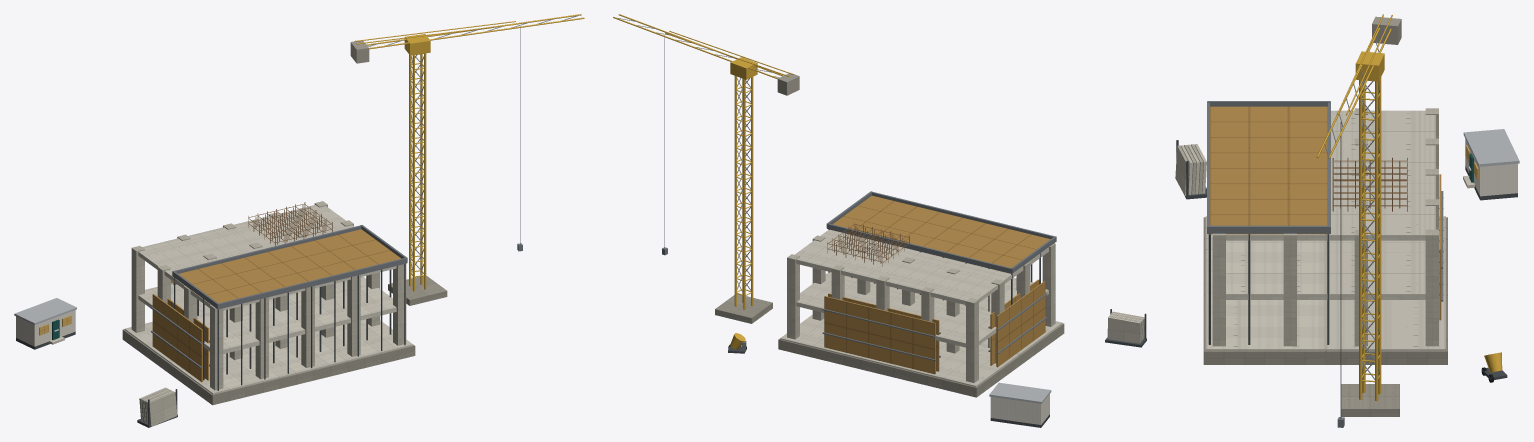
File: lf-3-construction.glb
3 views of the same model, side by side, from view 1: azimuth 30°, elevation 25°; view 2: azimuth 150°, elevation 25°; view 3: azimuth 270°, elevation 25° (orthographic). The views are drawn at different scales.
Size of the model in its own units: 53.3 by 26.55 by 23.25.
Materials: 22 (13 with a texture image).
